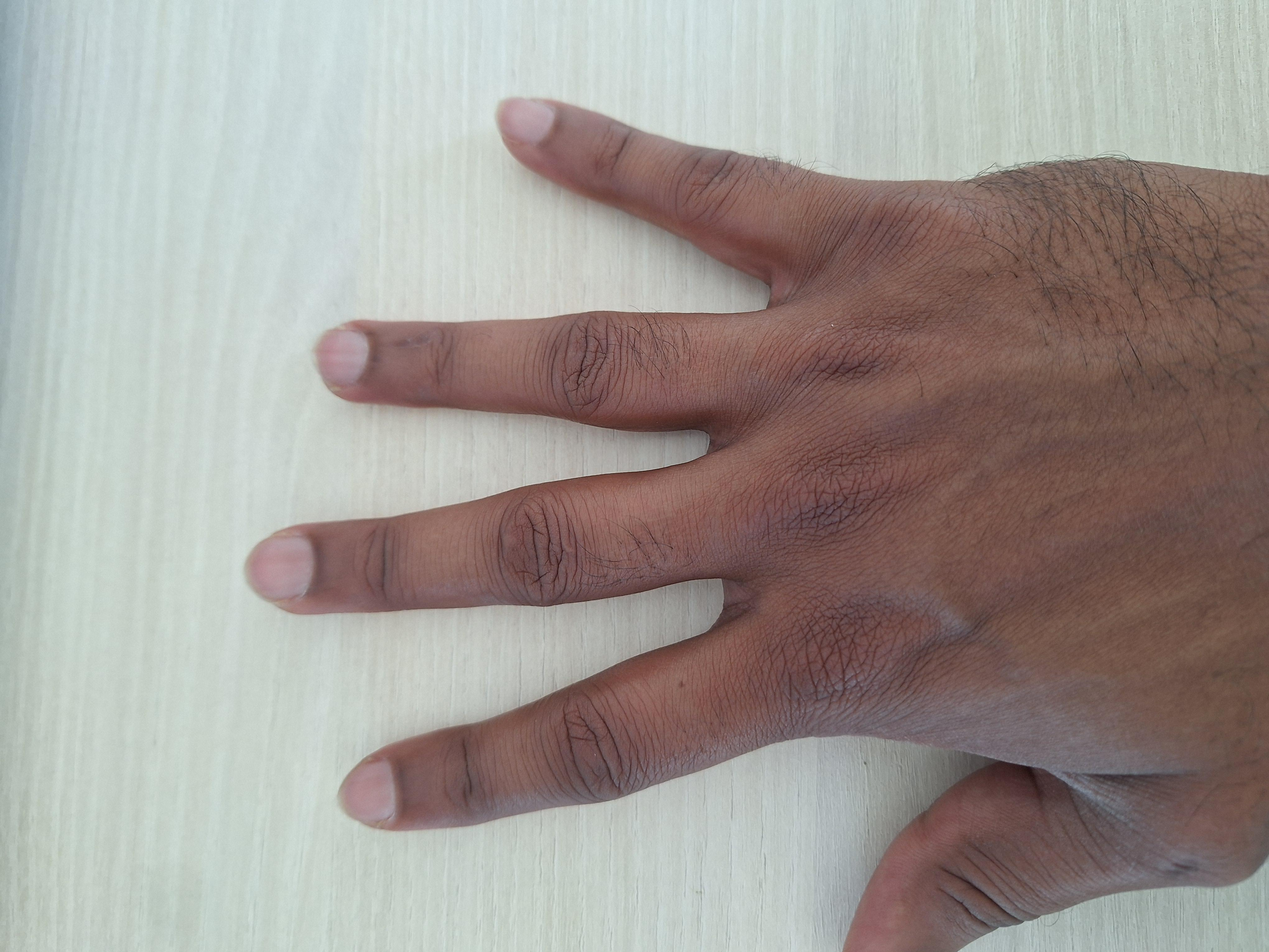Fingernail: (244, 536, 316, 603), (338, 761, 396, 822), (312, 329, 369, 386), (495, 97, 553, 143)
